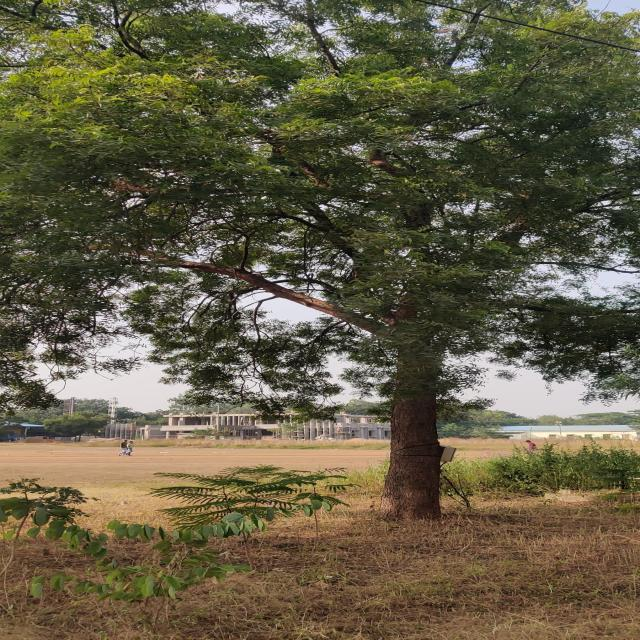Neem Tree: (23, 9, 594, 328)
